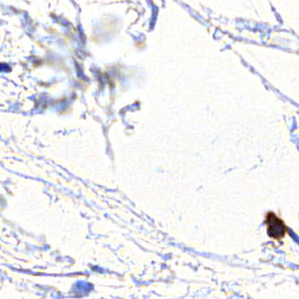Lymphocyte: (262, 207, 290, 244)
